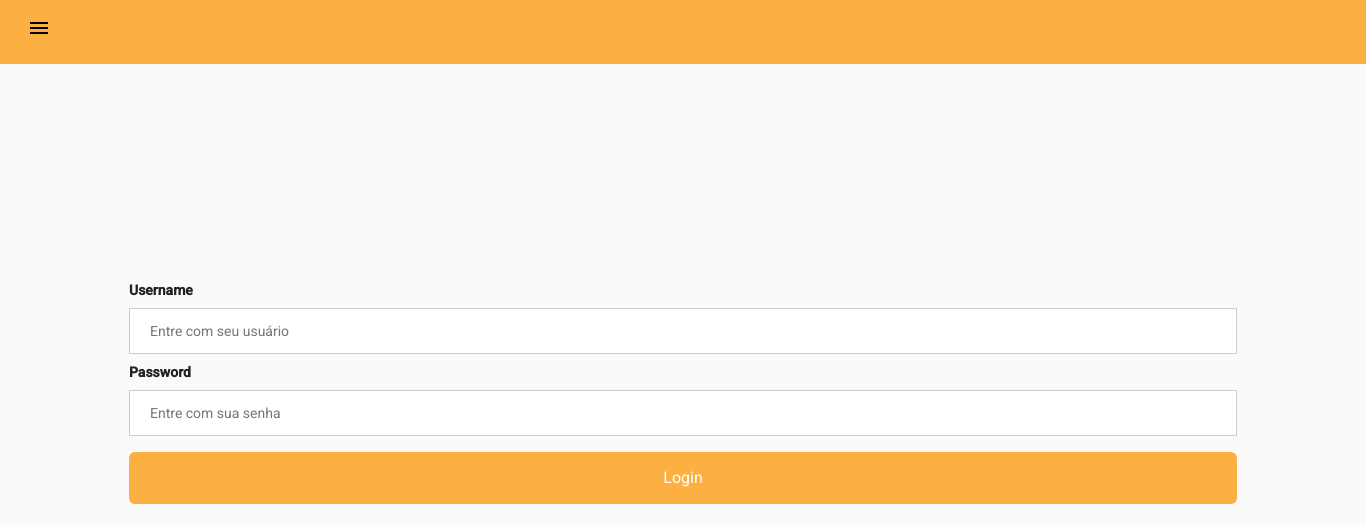
Scenario: Test login › should alert in error authenticate in url
In the field with id "inpUser": (683, 331) x1=129 y1=308 x2=1237 y2=354, type "Victor"
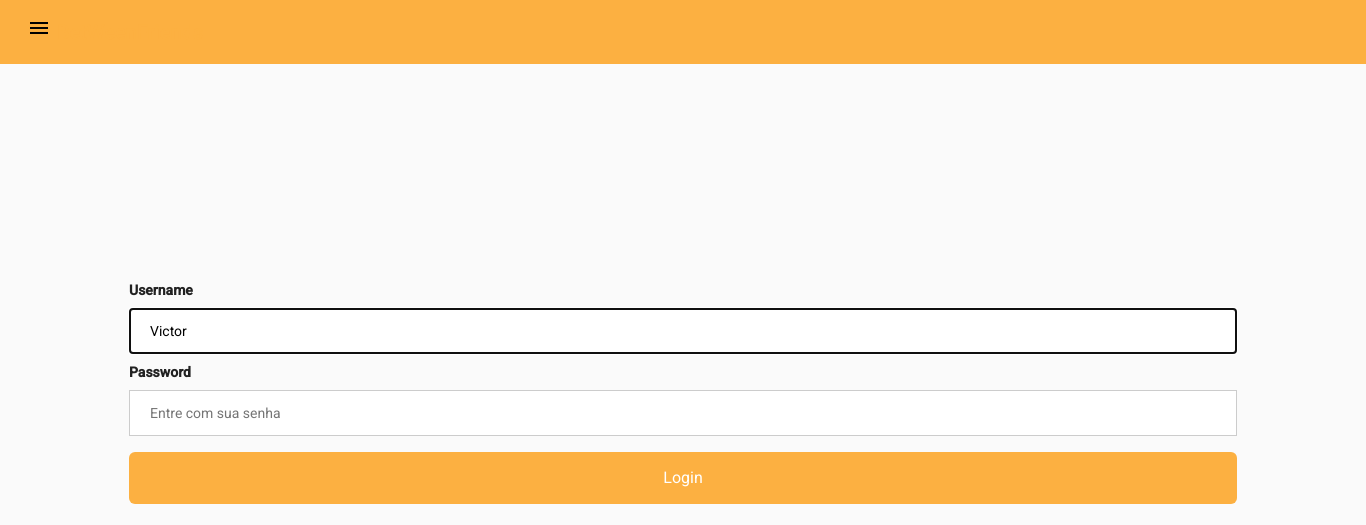
In the password field with id "inpPass": (683, 413) x1=129 y1=390 x2=1237 y2=436, type "Teste10000"
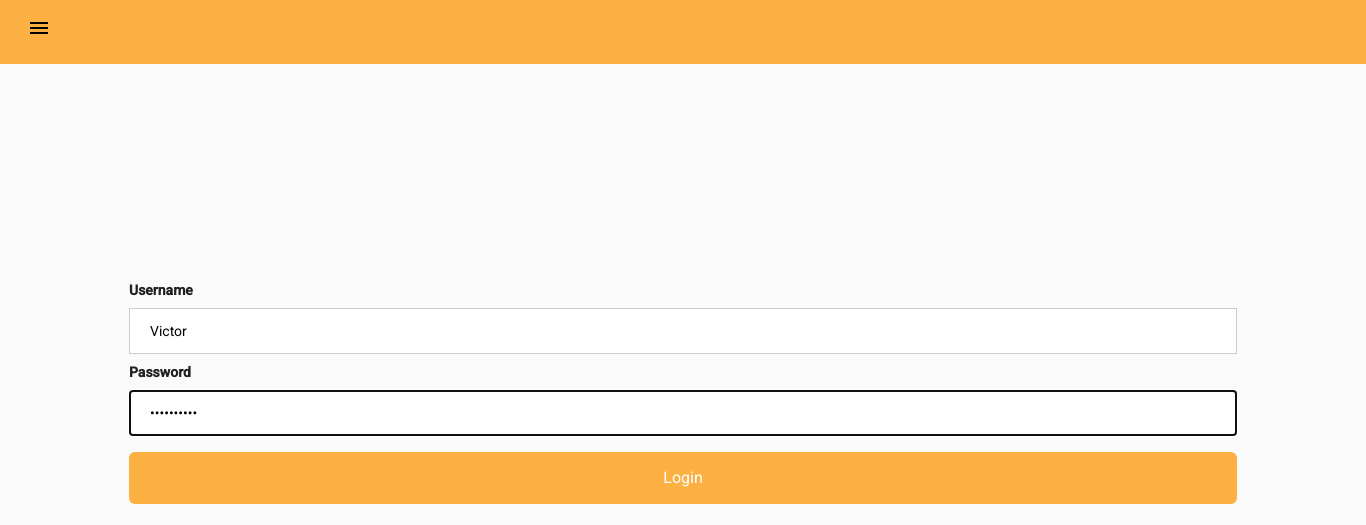
Click the button with id "btnClick": (683, 478) x1=129 y1=452 x2=1237 y2=504
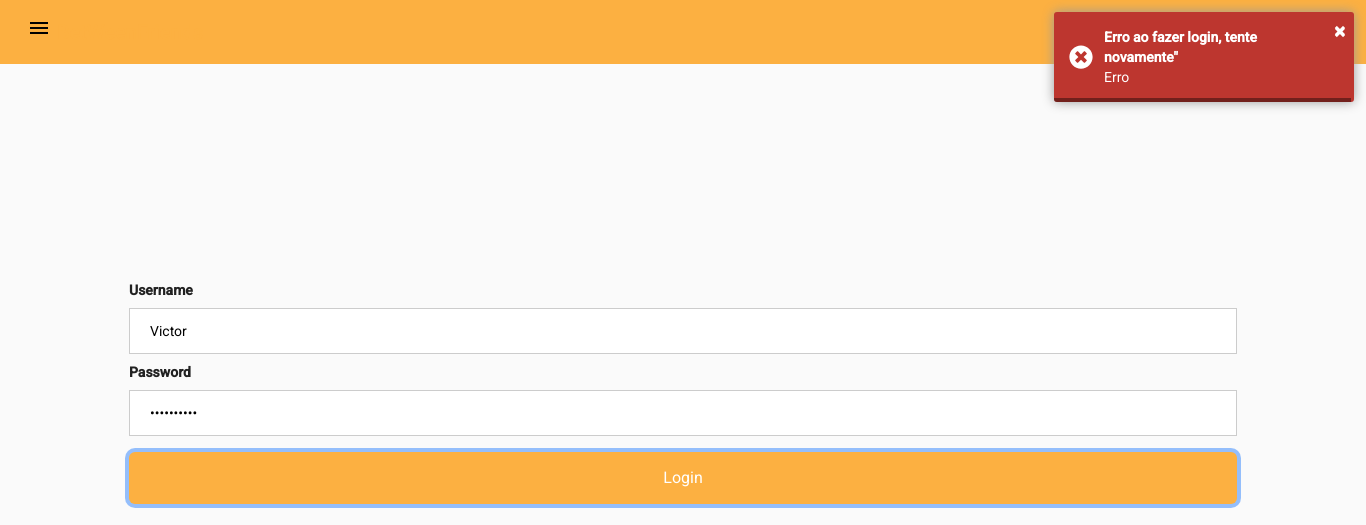
Expected: the text "Erro ao fazer login, tente novamente" is shown, x1=1104 y1=29 x2=1257 y2=65
